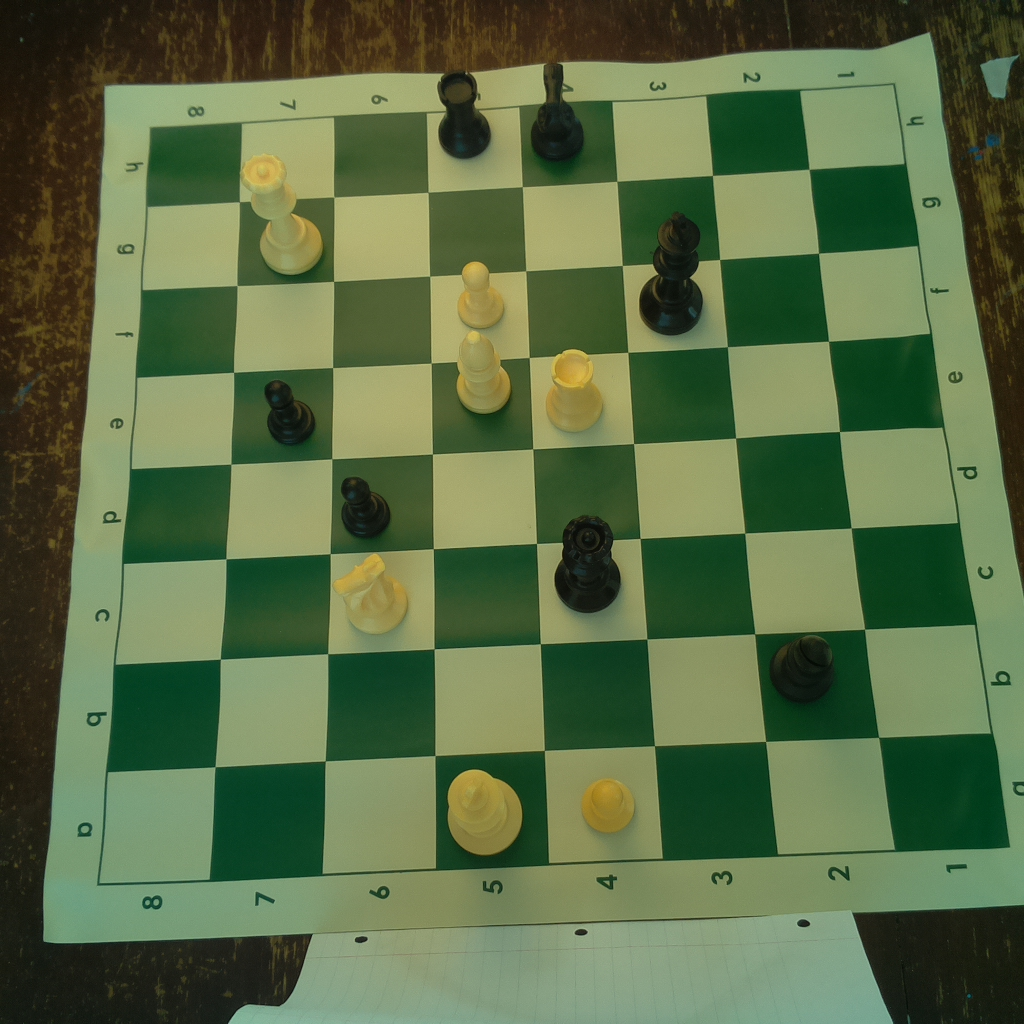black_bishop: (767, 628, 840, 706)
black_king: (637, 208, 705, 339)
black_knight: (525, 60, 588, 158)
black_pawn: (253, 375, 320, 447), (332, 470, 396, 541)
black_queen: (551, 514, 628, 617)
black_rook: (427, 65, 496, 161)
file_a: (96, 734, 1010, 884)
file_b: (108, 625, 993, 770)
file_c: (114, 522, 975, 666)
file_d: (123, 426, 960, 567)
file_e: (132, 336, 944, 470)
file_f: (138, 245, 932, 377)
file_g: (141, 165, 920, 290)
file_h: (144, 84, 907, 208)
outline: (99, 83, 1012, 888)
rank_1: (802, 83, 1012, 851)
rank_2: (707, 87, 896, 858)
rank_3: (612, 93, 780, 861)
rank_4: (521, 101, 664, 862)
rank_5: (428, 106, 550, 869)
rank_6: (323, 112, 438, 870)
rank_7: (210, 118, 336, 882)
rank_8: (98, 121, 244, 886)
white_bishop: (447, 325, 515, 417)
white_king: (442, 765, 523, 856)
white_knight: (325, 549, 410, 636)
white_pawn: (575, 774, 640, 836), (453, 254, 507, 328)
white_queen: (240, 151, 325, 275)
white_rook: (545, 347, 605, 434)
